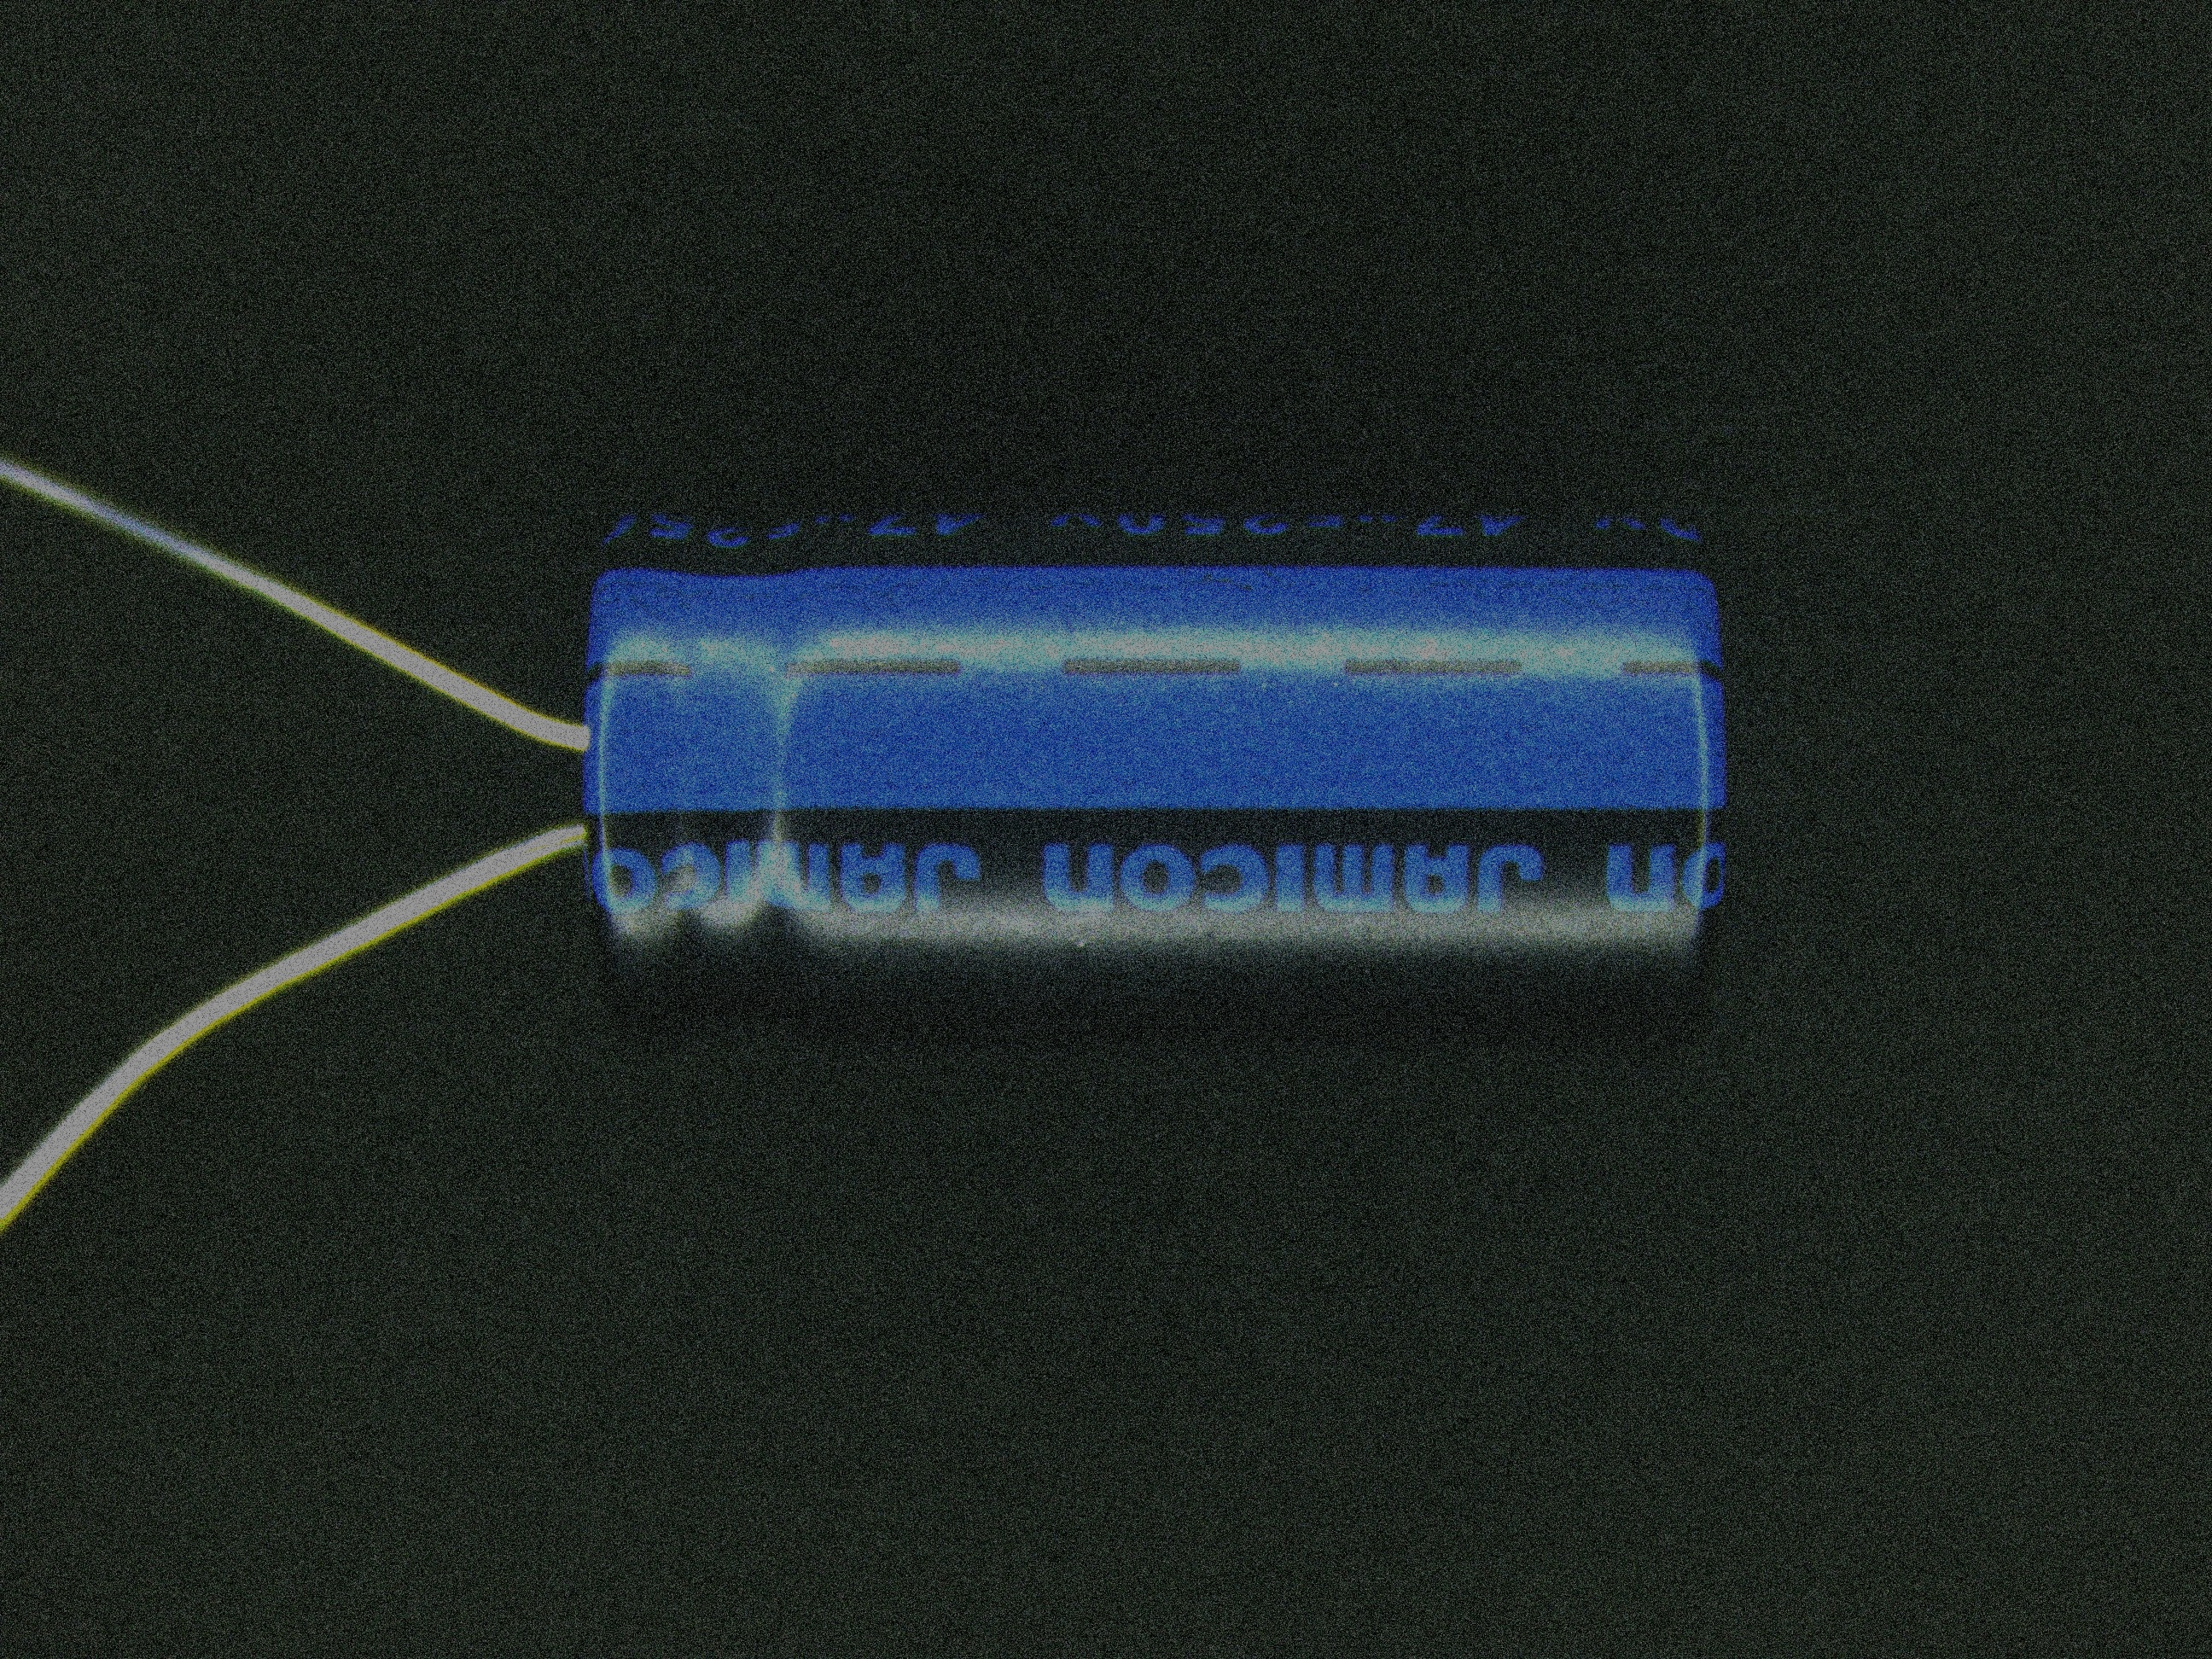c2: (373, 497, 1733, 1044)
